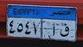1: (32, 22, 38, 35)
4: (9, 20, 14, 33), (25, 22, 30, 34)
5: (17, 23, 23, 32)
alif: (51, 22, 56, 36)
qaaf: (59, 23, 69, 37)
